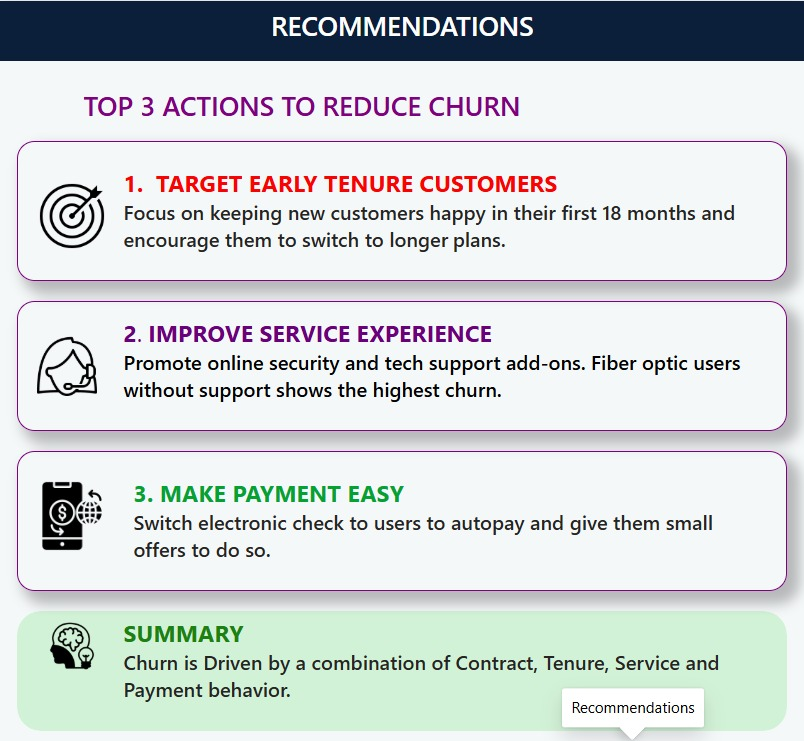

The page's visual inventory and layout, read from the dashboard file:
{"tool":"powerbi","page":{"name":"Recommendations","canvas":[650,600],"ordinal":5},"visuals":[{"type":"shape","box":[16,112,616,112],"z":0},{"type":"shape","box":[16,240,616,104],"z":1000},{"type":"shape","box":[16,360,616,112],"z":2000},{"type":"shape","box":[0,0,1280,48],"z":3000},{"type":"textbox","box":[144,0,360,48],"z":4000},{"type":"textbox","box":[64,64,416,48],"z":5000},{"type":"shape","box":[16,488,616,96],"z":6000},{"type":"textbox","box":[96,128,520,88],"z":7000},{"type":"textbox","box":[96,248,536,96],"z":8000},{"type":"textbox","box":[104,376,512,112],"z":9000},{"type":"textbox","box":[96,488,520,104],"z":10000},{"type":"image","box":[24,496,72,40],"z":11000},{"type":"image","box":[32,144,56,56],"z":12000},{"type":"image","box":[32,264,48,56],"z":13000},{"type":"image","box":[32,376,56,72],"z":14000}]}

Visuals, with their boxes in screenshot pixels (x1, y1, x2, y2), scaled from the page's 650x600 canvas onto the 804x741 screenshot:
shape: bbox=[20, 138, 782, 277]
shape: bbox=[20, 296, 782, 425]
shape: bbox=[20, 445, 782, 583]
shape: bbox=[0, 0, 803, 59]
textbox: bbox=[178, 0, 623, 59]
textbox: bbox=[79, 79, 594, 138]
shape: bbox=[20, 603, 782, 721]
textbox: bbox=[119, 158, 762, 267]
textbox: bbox=[119, 306, 782, 425]
textbox: bbox=[129, 464, 762, 603]
textbox: bbox=[119, 603, 762, 731]
image: bbox=[30, 613, 119, 662]
image: bbox=[40, 178, 109, 247]
image: bbox=[40, 326, 99, 395]
image: bbox=[40, 464, 109, 553]
